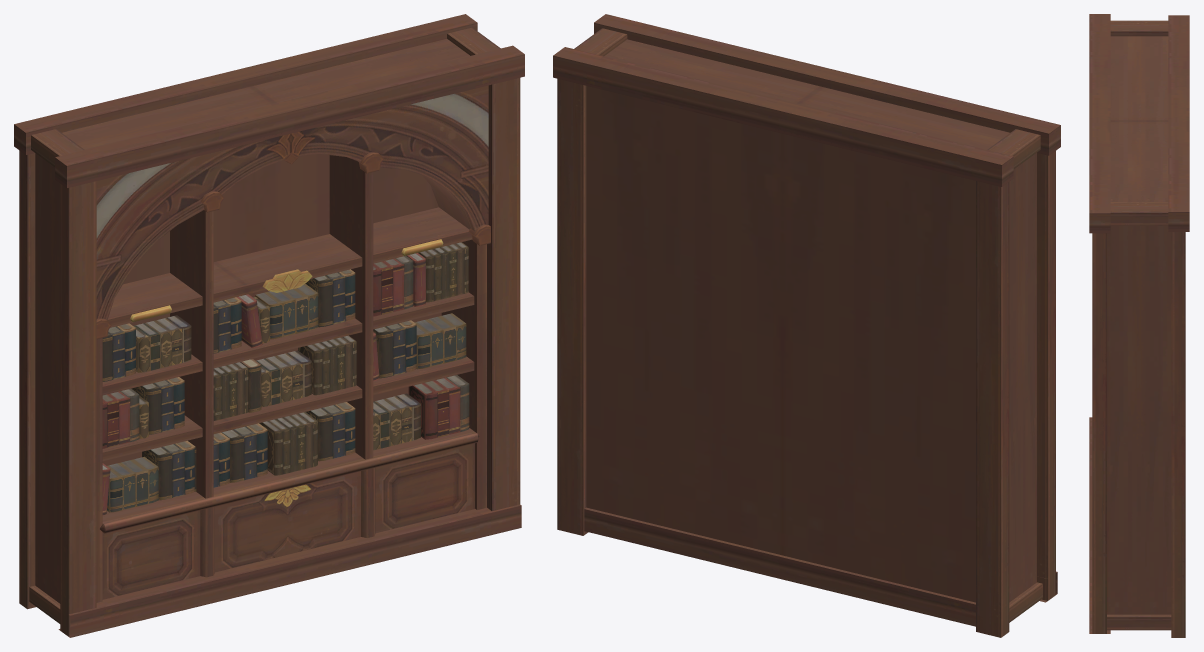
The model's file is Homeworld_Interior_Md_Cabinet_Bookcase_05_Vo.fbx.
The picture shows the model from 3 angles, left to right: view 1: azimuth 30°, elevation 25°; view 2: azimuth 150°, elevation 25°; view 3: azimuth 270°, elevation 25°; orthographic projection. The views are drawn at different scales.
Visible parts, largest first — view 1: Homeworld_Interior_Md_Cabinet_Bookcase_05_Vo; view 2: Homeworld_Interior_Md_Cabinet_Bookcase_05_Vo; view 3: Homeworld_Interior_Md_Cabinet_Bookcase_05_Vo.
Boxes of the visible parts, x1,y1,x2,y2 form: Homeworld_Interior_Md_Cabinet_Bookcase_05_Vo: (14, 14, 524, 637); Homeworld_Interior_Md_Cabinet_Bookcase_05_Vo: (553, 14, 1060, 637); Homeworld_Interior_Md_Cabinet_Bookcase_05_Vo: (1089, 14, 1189, 637).
Bounding box in the file's own units: 4.06 × 4.05 × 0.8608.
